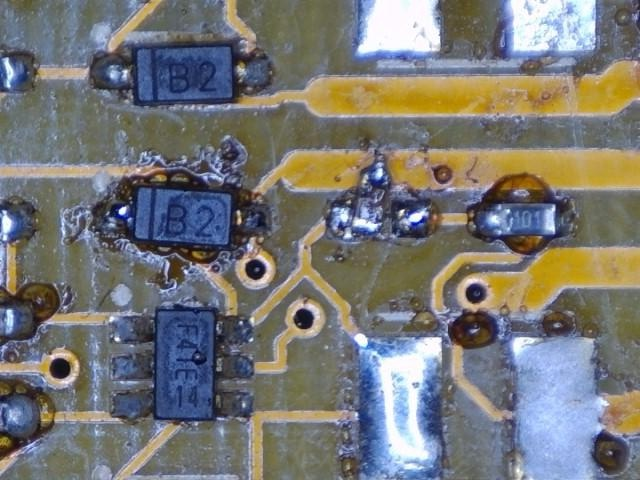pcb_defect: (329, 159, 389, 242), (4, 393, 38, 437), (111, 391, 152, 421), (113, 317, 154, 344), (112, 355, 152, 380)
